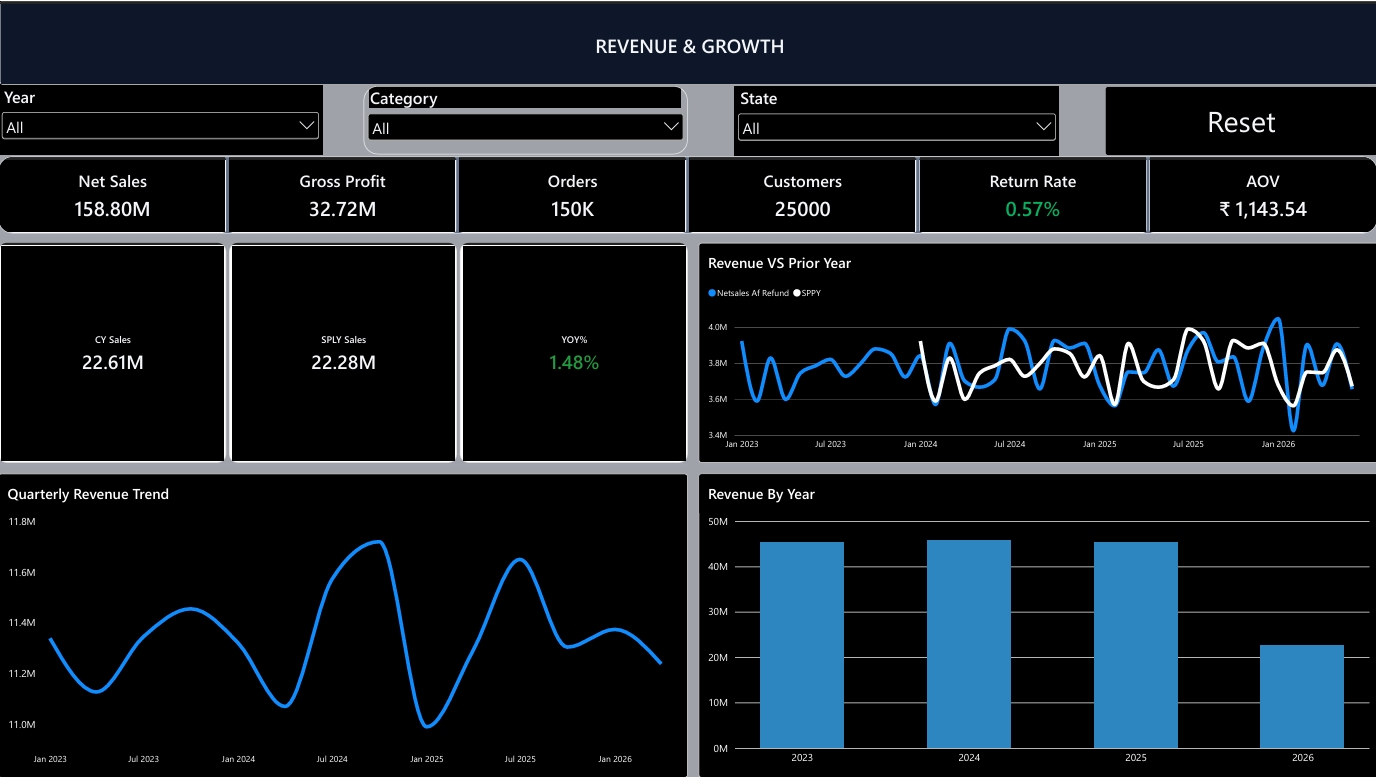

What the dashboard file says about the page in this screenshot:
{"tool":"powerbi","page":{"name":"Page 2","canvas":[1920,1080],"ordinal":1},"visuals":[{"type":"columnChart","title":"Revenue By Year","fields":{"Category":["DimDate.Year"],"Y":["Measure.Netsales Af Refund"]},"box":[974,656.8,946,423.6],"z":0},{"type":"lineChart","title":"Quarterly Revenue Trend","fields":{"Category":["DimDate.Date.Variation.Date Hierarchy.Year","DimDate.Date.Variation.Date Hierarchy.Quarter"],"Y":["Measure.Netsales Af Refund"]},"box":[0,656.8,959.1,423.6],"z":1000},{"type":"slicer","fields":{"Values":["DimDate.Year"]},"box":[0,116.9,450.8,96],"z":2000},{"type":"slicer","fields":{"Values":["categories.category_name"]},"box":[507.5,117.6,451.6,95.2],"z":3000},{"type":"slicer","fields":{"Values":["orders.shipping_state"]},"box":[1024.4,119.4,451.6,97],"z":4000},{"type":"actionButton","box":[1539.6,119.4,378.7,94.7],"z":5000},{"type":"cardVisual","fields":{"Data":["Measure.Netsales Af Refund","Measure.Profit","Measure.Total Orders","Measure.Total Customers","Measure.ReturnRate","DimDate.AOV"]},"box":[0,216.4,1918.2,106.4],"z":6000},{"type":"lineChart","title":"Revenue VS Prior Year","fields":{"Category":["DimDate.Date.Variation.Date Hierarchy.Year","DimDate.Date.Variation.Date Hierarchy.Month"],"Y":["Measure.Netsales Af Refund","Measure.SPPY"]},"box":[974,335.9,946,306],"z":7000},{"type":"shape","box":[0,0,1917.8,116],"z":8000},{"type":"cardVisual","fields":{"Data":["Measure.CY Sales","Measure.SPPY YTD","Measure.YOY% YTD"]},"box":[0,335.9,959.1,306],"z":9000},{"type":"cardVisual","fields":{"Data":["DimDate.Revenue Page Title"]},"box":[1.9,0,1918.2,115.7],"z":10000}]}

Visuals, with their boxes in screenshot pixels (x1, y1, x2, y2), scaled from the page's 1920x1080 canvas onto the 1376x777 screenshot:
"Revenue By Year" columnChart: <bbox>698, 473, 1375, 776</bbox>
"Quarterly Revenue Trend" lineChart: <bbox>0, 473, 687, 776</bbox>
slicer - DimDate.Year: <bbox>0, 84, 323, 153</bbox>
slicer - categories.category_name: <bbox>364, 85, 687, 153</bbox>
slicer - orders.shipping_state: <bbox>734, 86, 1058, 156</bbox>
actionButton: <bbox>1103, 86, 1375, 154</bbox>
cardVisual - Measure.Netsales Af Refund x Measure.Profit: <bbox>0, 156, 1375, 232</bbox>
"Revenue VS Prior Year" lineChart: <bbox>698, 242, 1375, 462</bbox>
shape: <bbox>0, 0, 1374, 83</bbox>
cardVisual - Measure.CY Sales x Measure.SPPY YTD: <bbox>0, 242, 687, 462</bbox>
cardVisual - DimDate.Revenue Page Title: <bbox>1, 0, 1375, 83</bbox>
